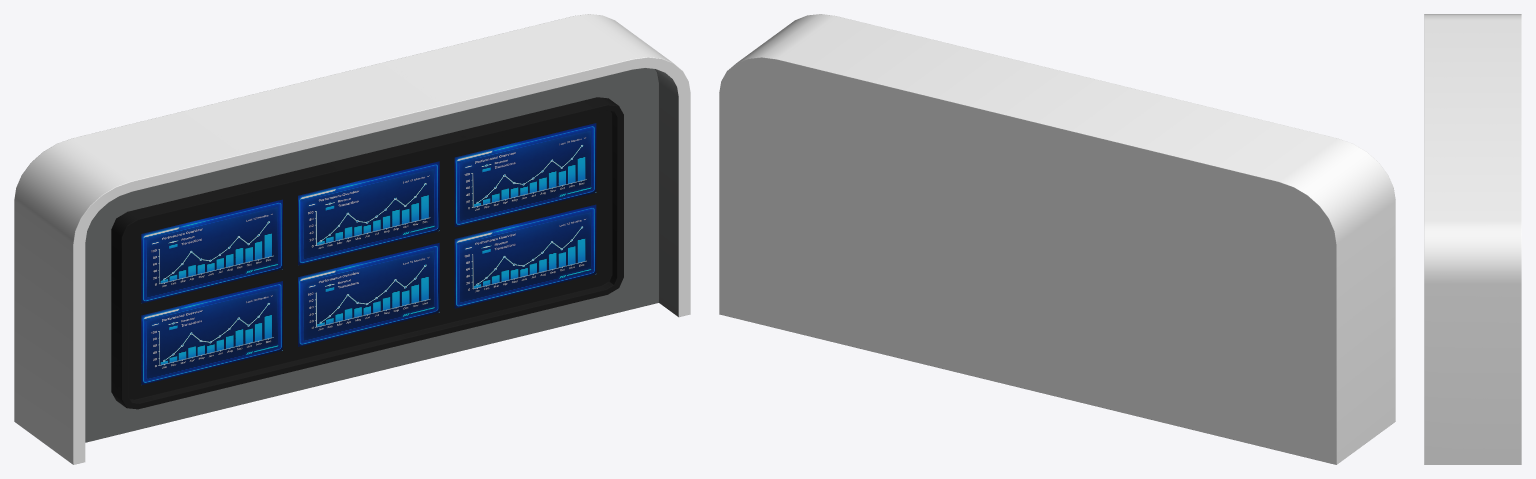
File: ServerWallModule.fbx
3 renders of one model, left to right at view 1: azimuth 30°, elevation 25°; view 2: azimuth 150°, elevation 25°; view 3: azimuth 270°, elevation 25°, orthographic. The views are drawn at different scales.
Visible parts, largest first — view 1: ServerWallModule, ServerWallModuleScreen; view 2: ServerWallModule; view 3: ServerWallModule.
Part boxes in pixels (bbox=[...]): ServerWallModule: bbox=[14, 14, 690, 464]; ServerWallModuleScreen: bbox=[141, 123, 596, 385]; ServerWallModule: bbox=[719, 14, 1395, 464]; ServerWallModule: bbox=[1424, 14, 1521, 464].
Bounding box in the file's own units: 360 × 150 × 60.
2 materials, 2 textured.
